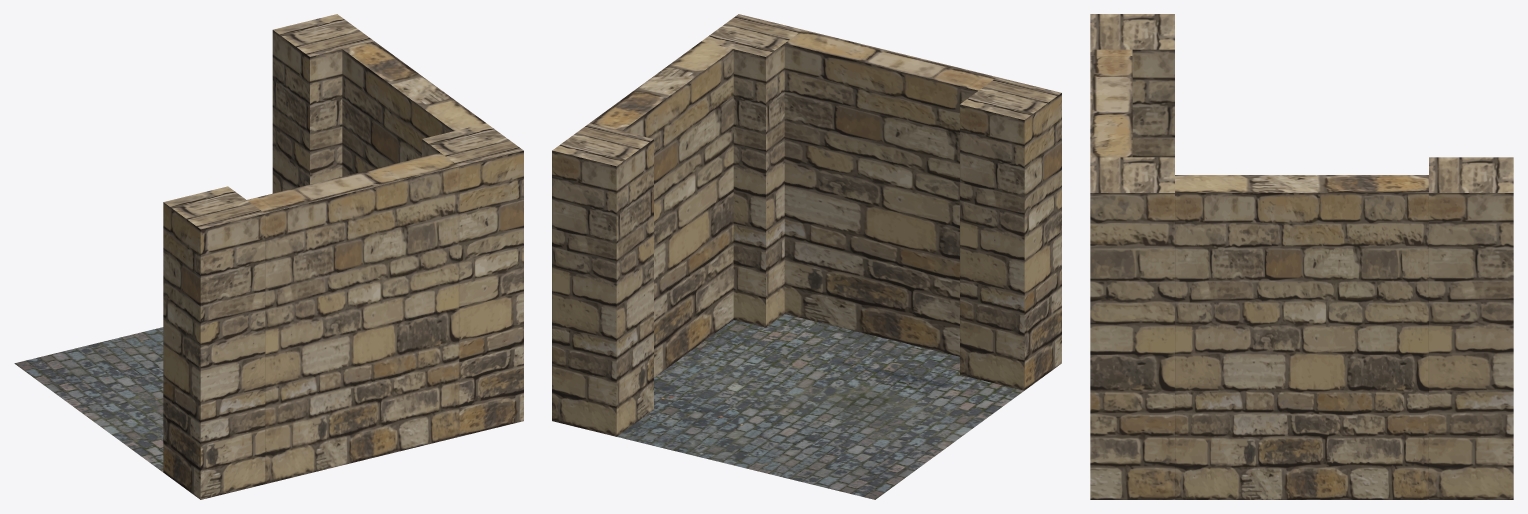
File: 1-NW-eastSouthWall.fbx
The picture shows the model from 3 angles, left to right: view 1: azimuth 30°, elevation 25°; view 2: azimuth 150°, elevation 25°; view 3: azimuth 270°, elevation 25°; orthographic projection. The views are drawn at different scales.
Parts seen in each view (by area): view 1: Cube_1, Plane; view 2: Cube_1, Plane; view 3: Cube_1.
Part boxes in pixels (<box>): Cube_1: <box>163,14,523,499</box>; Plane: <box>14,327,163,472</box>; Cube_1: <box>552,14,1061,436</box>; Plane: <box>617,314,1023,499</box>; Cube_1: <box>1090,14,1513,499</box>.
Size of the model in its own units: 10 by 8 by 10.
3 materials, 3 textured.
